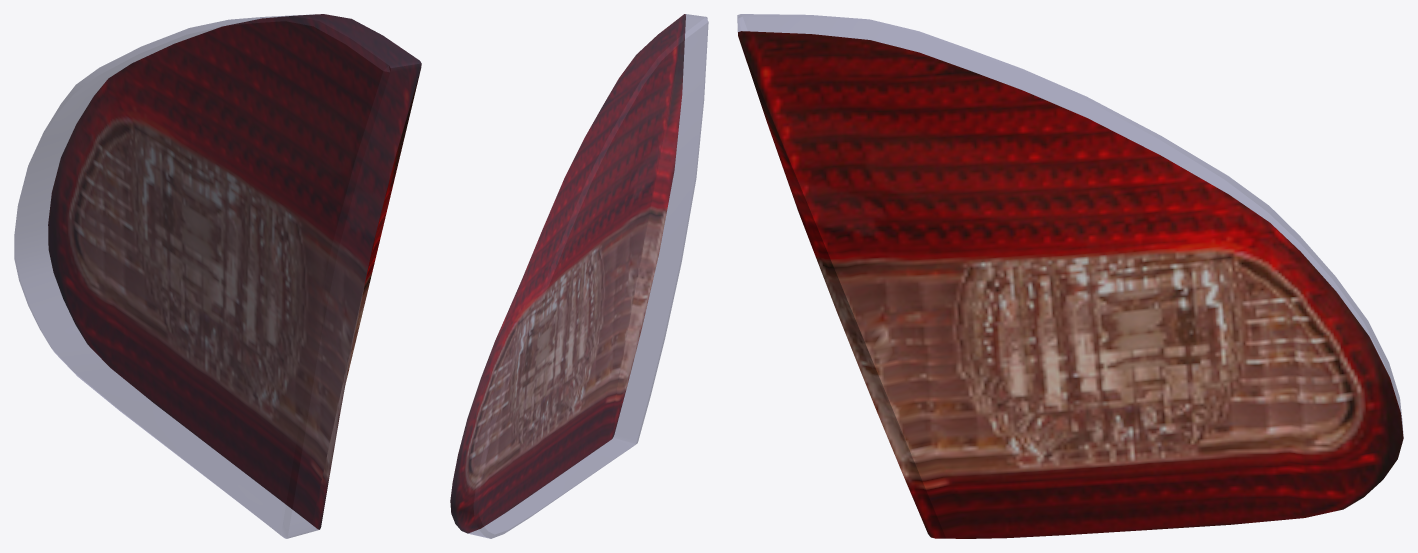
3 renders of one model, left to right at view 1: azimuth 30°, elevation 25°; view 2: azimuth 150°, elevation 25°; view 3: azimuth 270°, elevation 25°, orthographic. The views are drawn at different scales.
Parts seen in each view (by area): view 1: Y211_541D_R_Y211_541D_R_1_DTaSI, Y211_541D_R_2_N_Y211_541D_R; view 2: Y211_541D_R_Y211_541D_R_1_DTaSI, Y211_541D_R_2_N_Y211_541D_R; view 3: Y211_541D_R_2_N_Y211_541D_R, Y211_541D_R_Y211_541D_R_1_DTaSI.
Part boxes in pixels (box(x1,y1,x2,y2)): Y211_541D_R_Y211_541D_R_1_DTaSI: box(14, 14, 421, 538); Y211_541D_R_2_N_Y211_541D_R: box(48, 14, 421, 529); Y211_541D_R_Y211_541D_R_1_DTaSI: box(450, 14, 708, 538); Y211_541D_R_2_N_Y211_541D_R: box(450, 14, 685, 533); Y211_541D_R_2_N_Y211_541D_R: box(738, 31, 1403, 538); Y211_541D_R_Y211_541D_R_1_DTaSI: box(737, 14, 1403, 436).
Bounding box in the file's own units: 2.87 × 22.67 × 26.82.
